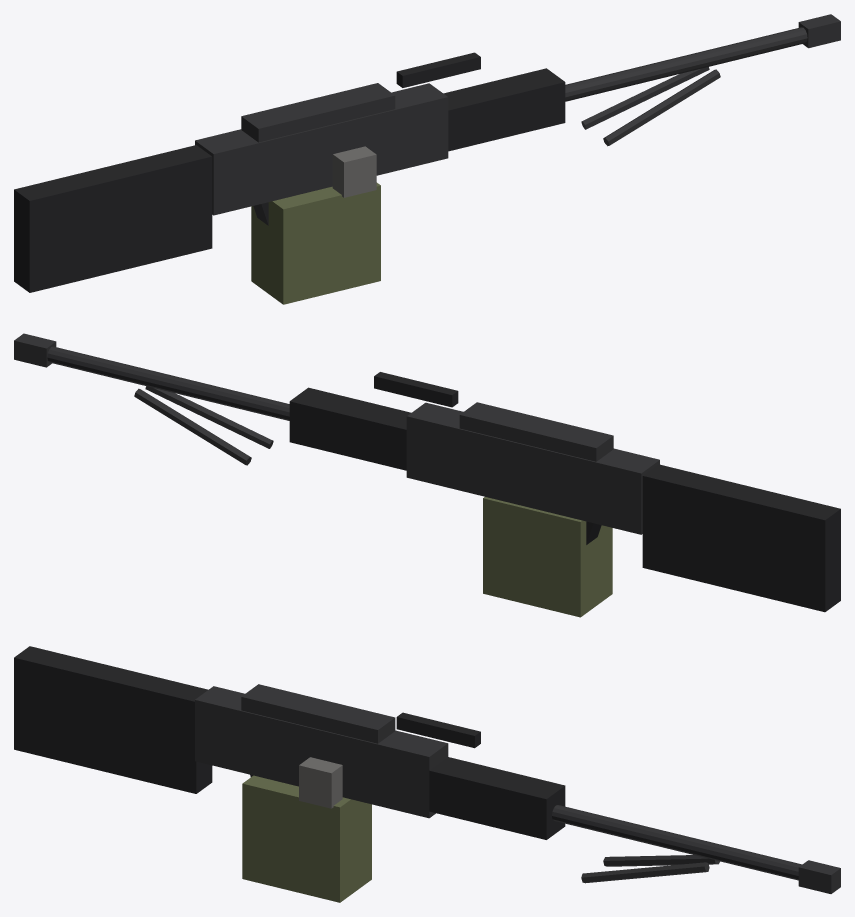
Rendered from gun_saw_c3.glb.
3 views of the same model, one above another, from view 1: azimuth 30°, elevation 25°; view 2: azimuth 150°, elevation 25°; view 3: azimuth 330°, elevation 25° (orthographic).
Parts seen in each view (by area): view 1: stock, receiver, ammobox, handguard, feedcover, barrel, belt, handle, bipod_0, bipod_1, flash; view 2: stock, receiver, ammobox, handguard, feedcover, barrel, handle, bipod_1, bipod_0, flash; view 3: stock, receiver, ammobox, handguard, feedcover, barrel, belt, handle, bipod_0, flash, bipod_1.
Part boxes in pixels (x1=…): stock: x1=14, y1=145, x2=212, y2=292; receiver: x1=195, y1=83, x2=448, y2=215; ammobox: x1=251, y1=182, x2=380, y2=304; handguard: x1=443, y1=68, x2=565, y2=151; feedcover: x1=241, y1=83, x2=395, y2=142; barrel: x1=565, y1=27, x2=807, y2=101; belt: x1=332, y1=146, x2=376, y2=197; handle: x1=396, y1=52, x2=480, y2=87; bipod_0: x1=603, y1=69, x2=720, y2=146; bipod_1: x1=581, y1=67, x2=709, y2=129; flash: x1=798, y1=14, x2=840, y2=48; stock: x1=642, y1=464, x2=840, y2=612; receiver: x1=406, y1=402, x2=659, y2=534; ammobox: x1=483, y1=497, x2=612, y2=617; handguard: x1=289, y1=387, x2=411, y2=470; feedcover: x1=459, y1=402, x2=613, y2=461; barrel: x1=47, y1=346, x2=289, y2=420; handle: x1=374, y1=372, x2=458, y2=407; bipod_1: x1=134, y1=388, x2=251, y2=465; bipod_0: x1=145, y1=386, x2=273, y2=448; flash: x1=14, y1=333, x2=56, y2=367; stock: x1=14, y1=646, x2=212, y2=793; receiver: x1=195, y1=686, x2=448, y2=818; ammobox: x1=242, y1=775, x2=371, y2=902; handguard: x1=429, y1=757, x2=565, y2=839; feedcover: x1=241, y1=684, x2=395, y2=743; barrel: x1=552, y1=805, x2=801, y2=880; belt: x1=299, y1=757, x2=342, y2=808; handle: x1=396, y1=712, x2=480, y2=748; bipod_0: x1=581, y1=862, x2=709, y2=883; flash: x1=798, y1=860, x2=840, y2=893; bipod_1: x1=603, y1=855, x2=719, y2=866.
Size of the model in its own units: 1.25 by 0.268 by 0.0961.
